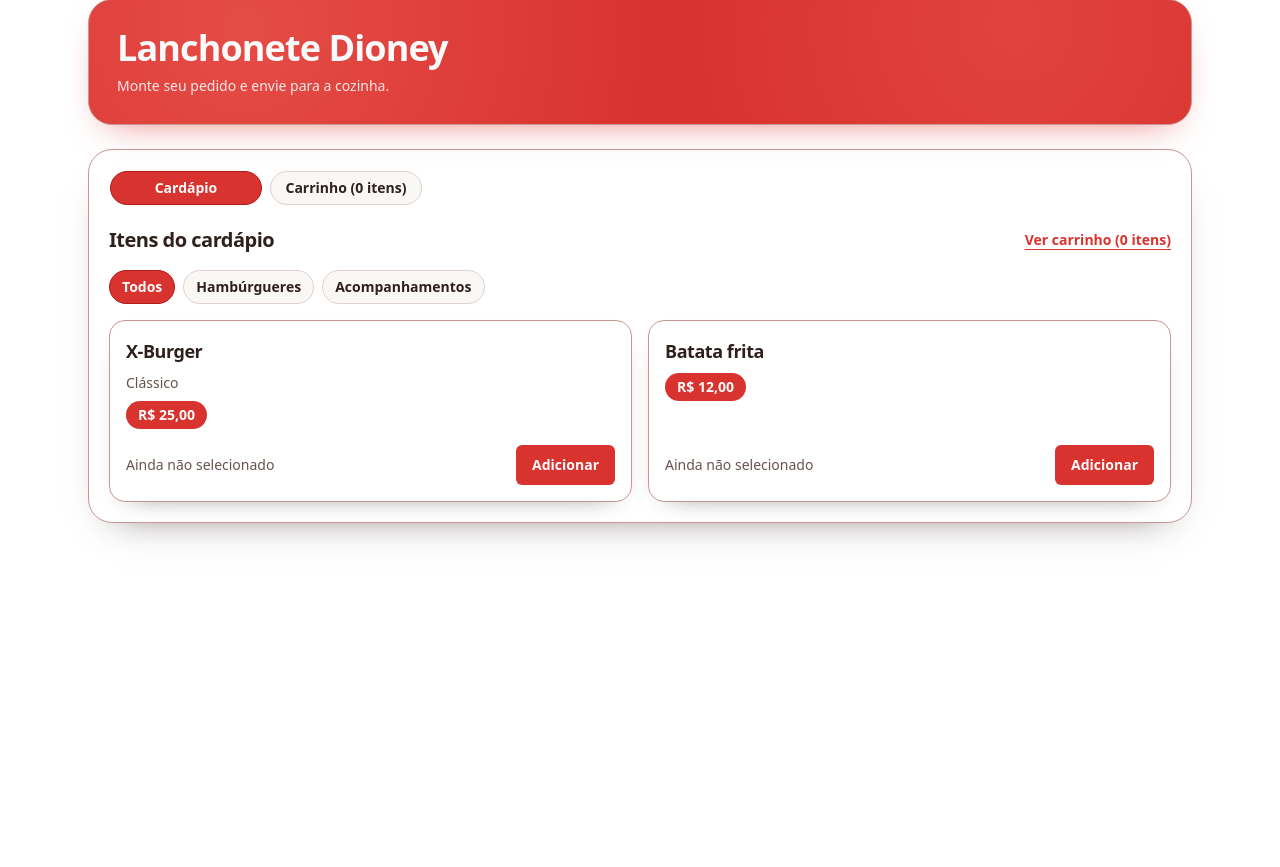
CustomerOrderPage (Customer Order Submission) › shows inline required-field messages when submitting without nome/telefone (brief: in-field validation)
This screenshot has width=1280, height=867.
What coordinates should you click on to do the following:
click the 1st button "Adicionar"
I would click on:
 (566, 465)
Its box is [516, 445, 615, 485].
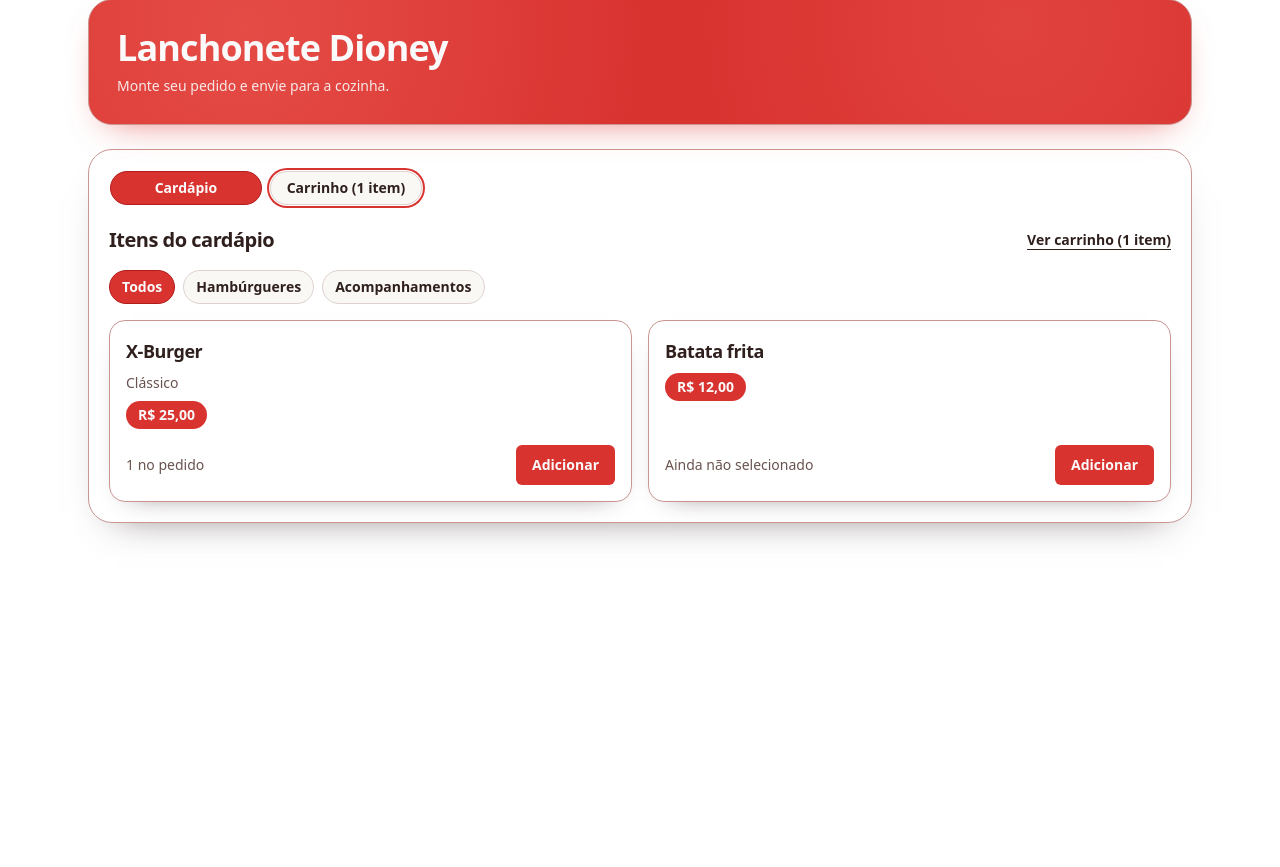
What coordinates should you click on to do the following:
click the button "Ver carrinho (1 item)"
I would click on:
 (1099, 240)
Its box is [1027, 230, 1171, 250].
(page scrolled)
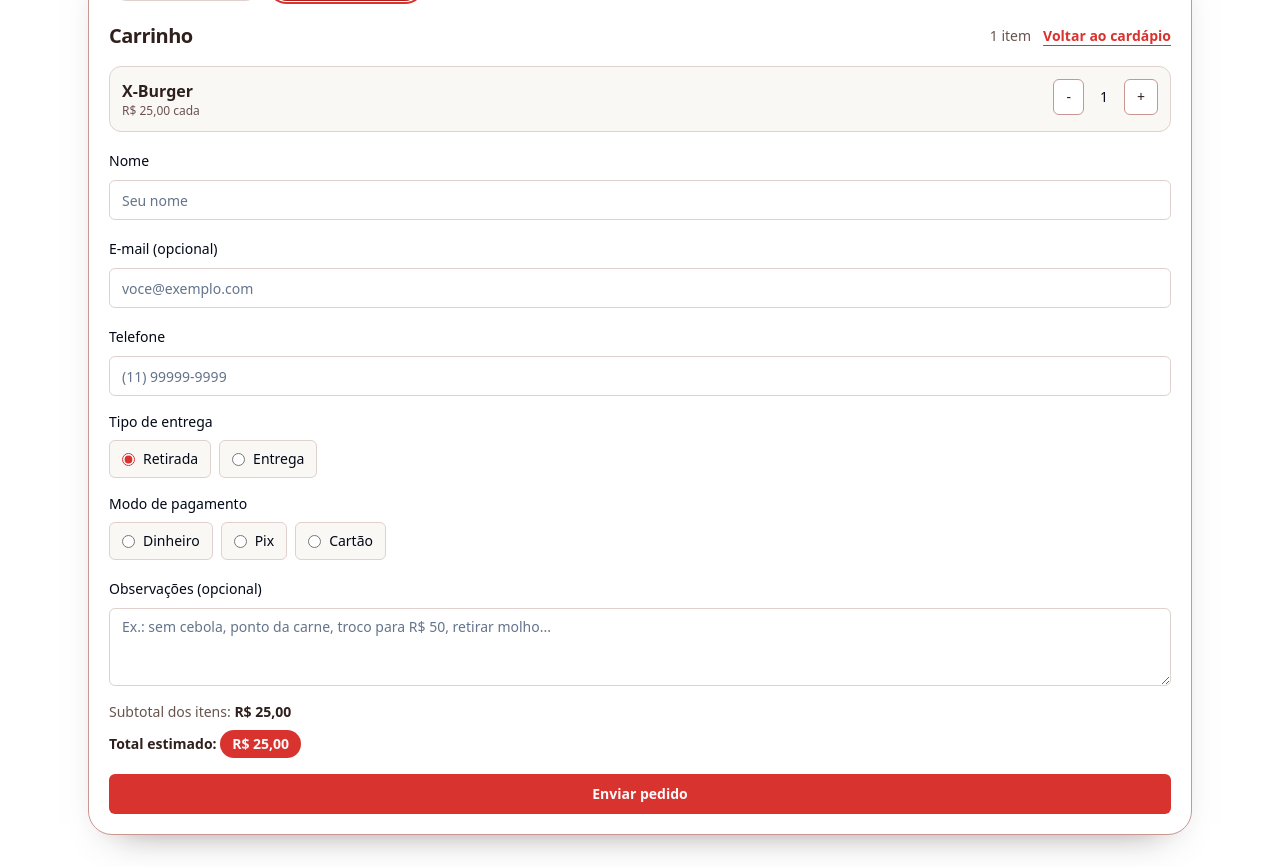
What coordinates should you click on to do the following:
click the button "Enviar pedido"
I would click on:
 (640, 794)
Its box is [109, 774, 1171, 814].
(page scrolled)
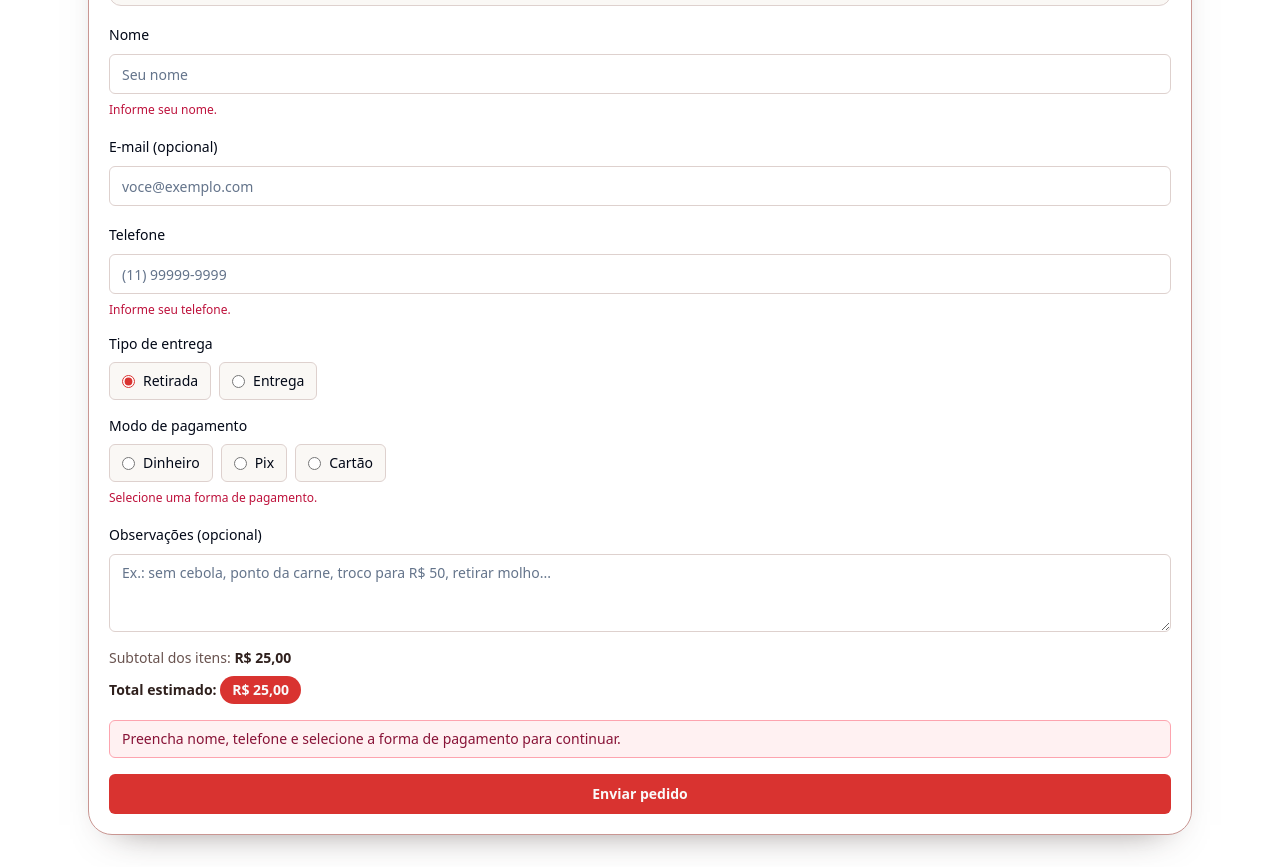
Now the text "Informe seu nome." is shown, box [109, 101, 217, 118]
Now the text "Informe seu telefone." is shown, box [109, 301, 231, 318]
Now the text "Selecione uma forma de pagamento." is shown, box [109, 489, 317, 506]
